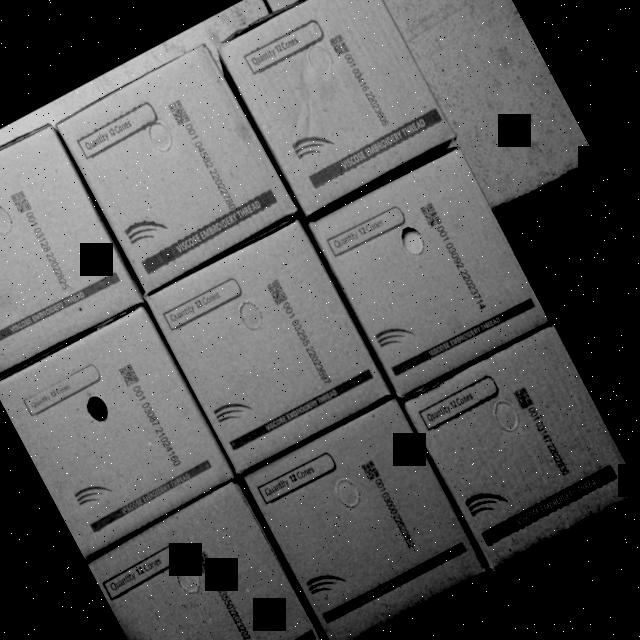box: (51, 38, 301, 298), (398, 311, 640, 572), (308, 140, 552, 398), (148, 219, 394, 472), (238, 393, 489, 640), (0, 302, 233, 555), (213, 0, 458, 220), (85, 474, 334, 640), (0, 111, 140, 378)
